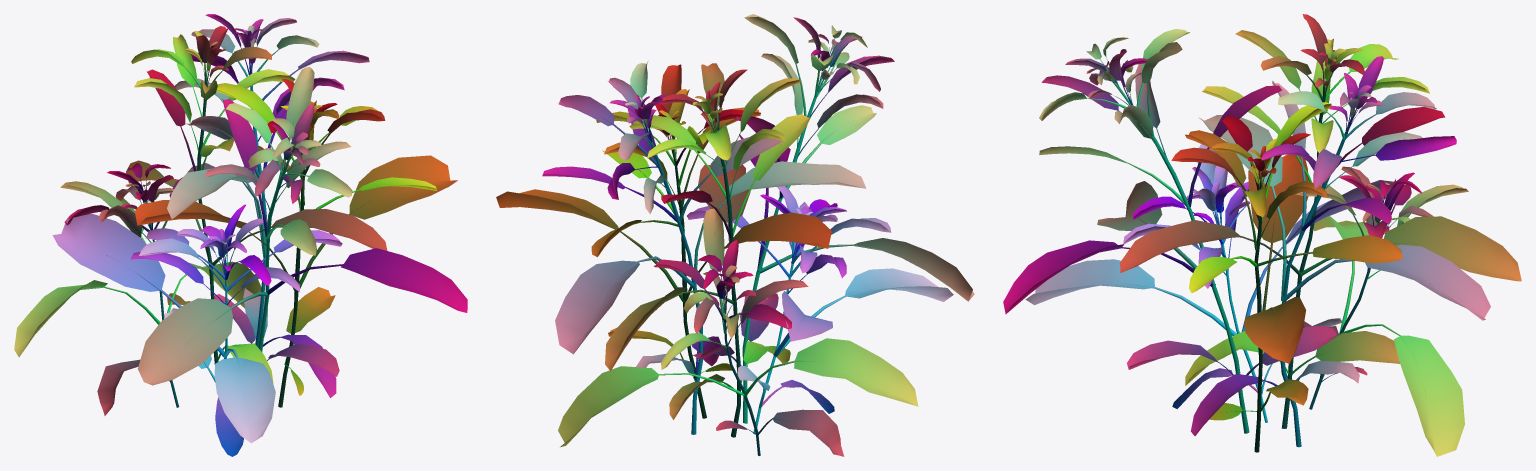
Rendered from Sage_ve3gbfoja_Mid_ve3gbfoja_VarD_LOD0.fbx.
3 views of the same model, side by side, from view 1: azimuth 30°, elevation 25°; view 2: azimuth 150°, elevation 25°; view 3: azimuth 270°, elevation 25° (orthographic). The views are drawn at different scales.
Parts seen in each view (by area): view 1: _dzim_VarD_LOD1; view 2: _dzim_VarD_LOD1; view 3: _dzim_VarD_LOD1.
Part boxes in pixels (x1,y1,x2,y2): _dzim_VarD_LOD1: (14,14,467,456); _dzim_VarD_LOD1: (496,14,974,456); _dzim_VarD_LOD1: (1003,14,1521,456).
Bounding box in the file's own units: 70.49 × 59.68 × 69.
